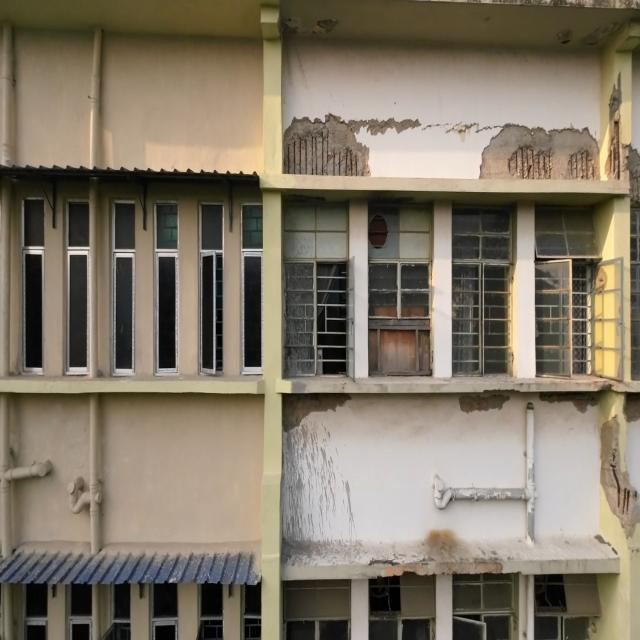spalling: (480, 124, 599, 178), (283, 114, 370, 176), (600, 413, 640, 535), (605, 75, 640, 180), (508, 145, 552, 178), (568, 151, 595, 178)
stain_mould: (425, 529, 457, 552), (445, 562, 502, 574), (414, 565, 421, 573), (401, 566, 412, 571)
